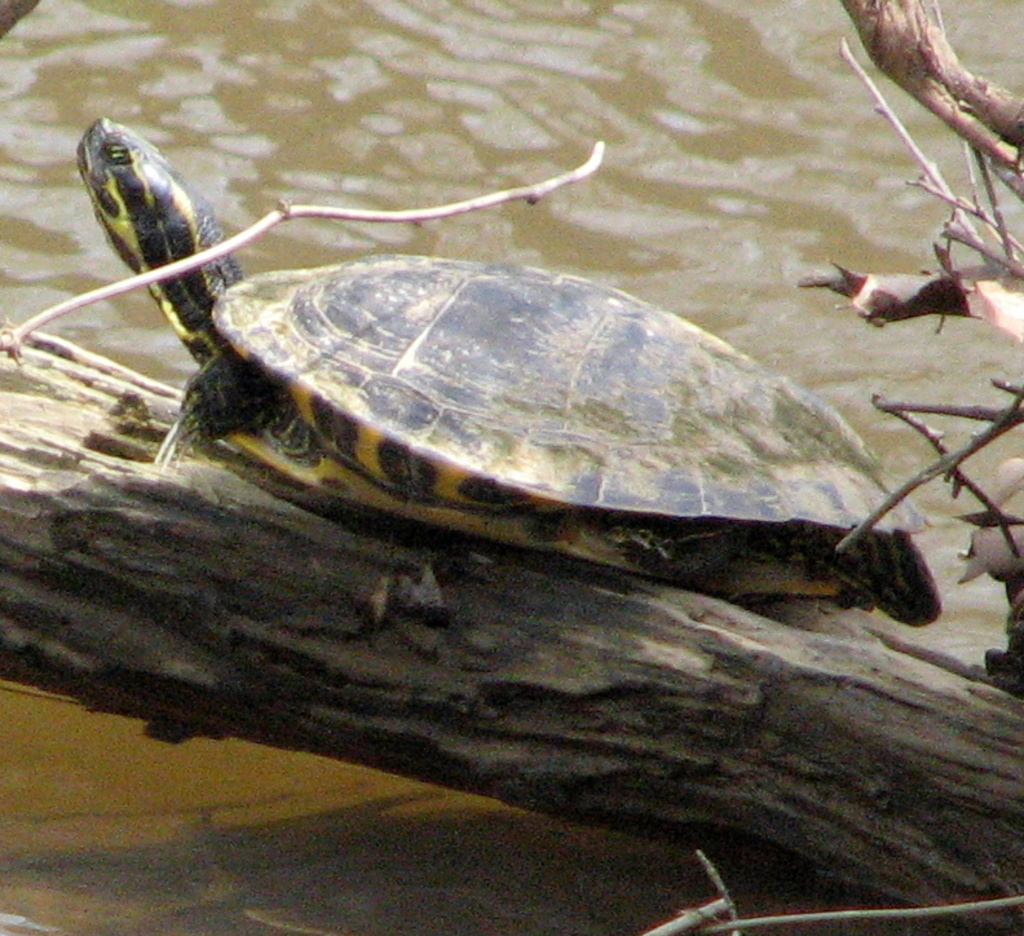Sea turtles: (69, 118, 946, 641)
